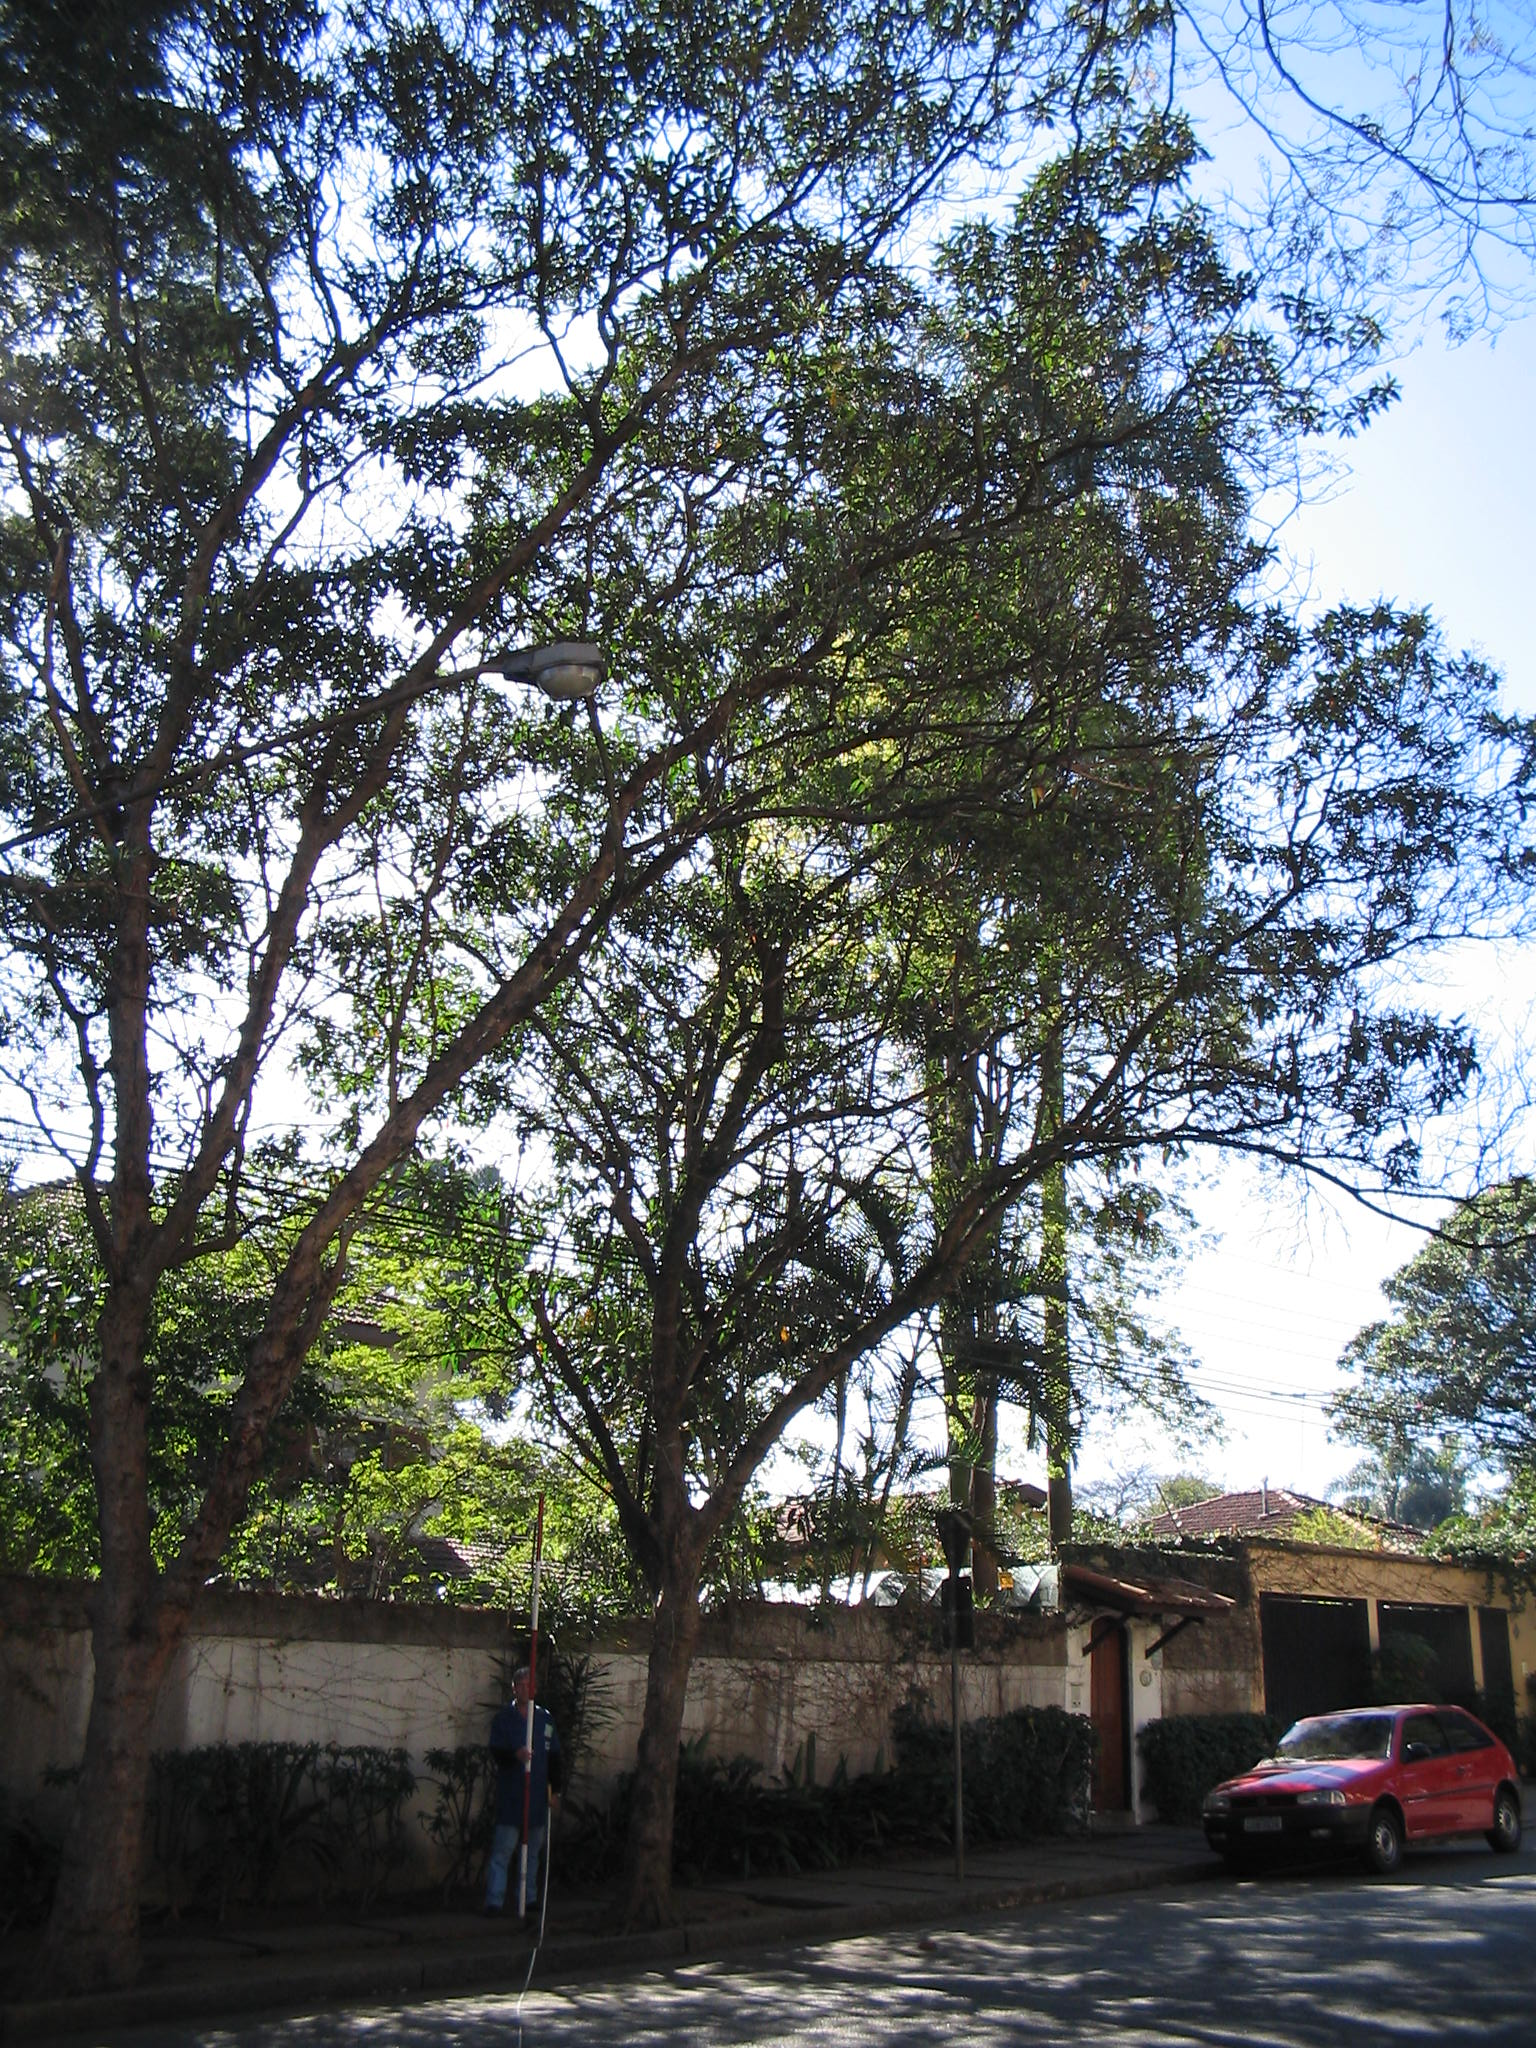stem: (27, 1617, 236, 1982), (595, 1526, 745, 1929)
stick: (503, 1492, 553, 1913)
tree: (3, 3, 1236, 1987), (466, 111, 1525, 1925)
